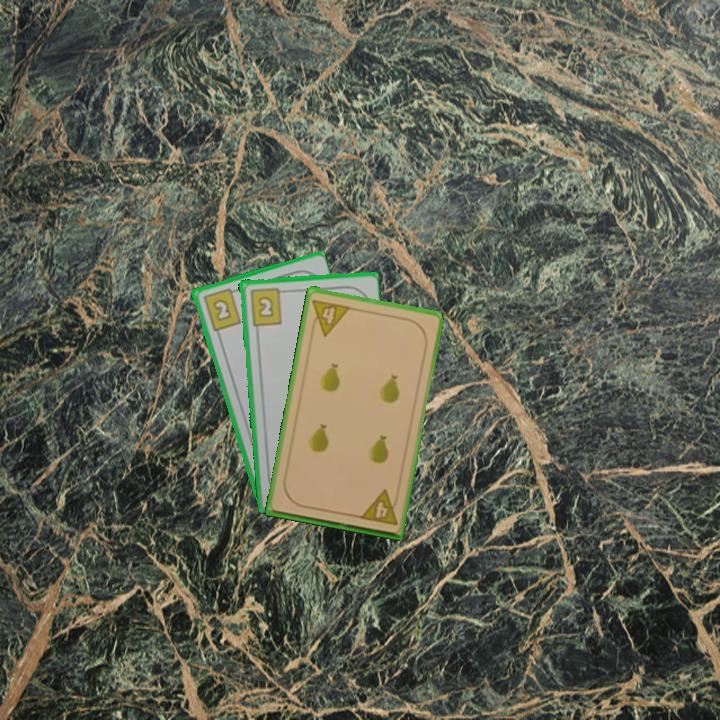2b: (199, 285, 243, 333), (246, 284, 288, 328)
4p: (307, 295, 353, 338), (356, 486, 402, 528)
